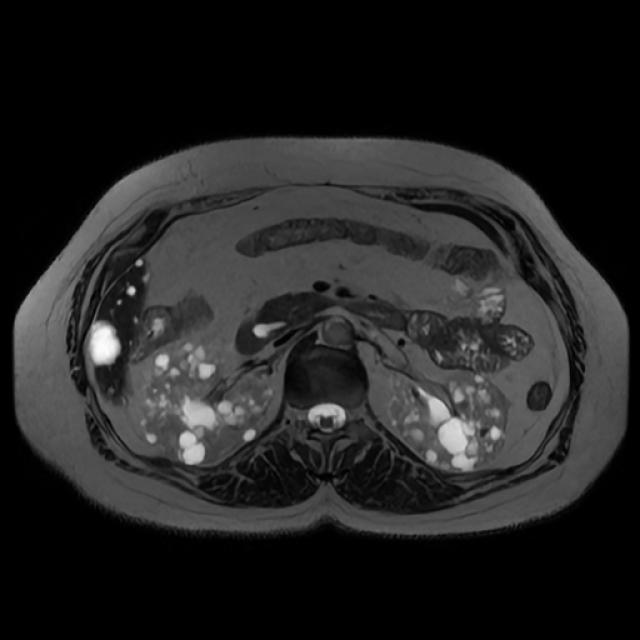sag: (141, 336, 275, 467)
sol: (388, 370, 508, 471)
